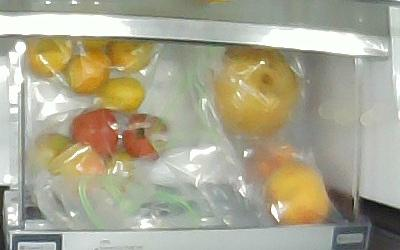peach_vinyl: (266, 165, 329, 224), (245, 140, 296, 183)
pear_vinyl: (213, 47, 298, 137)
tangerine_vinyl: (67, 49, 111, 95), (27, 35, 75, 77), (111, 37, 154, 77), (102, 75, 144, 113), (80, 37, 117, 56)
tomato_vinyl: (69, 109, 118, 157), (121, 114, 168, 159), (53, 142, 106, 177), (31, 132, 69, 172), (103, 150, 134, 187)
